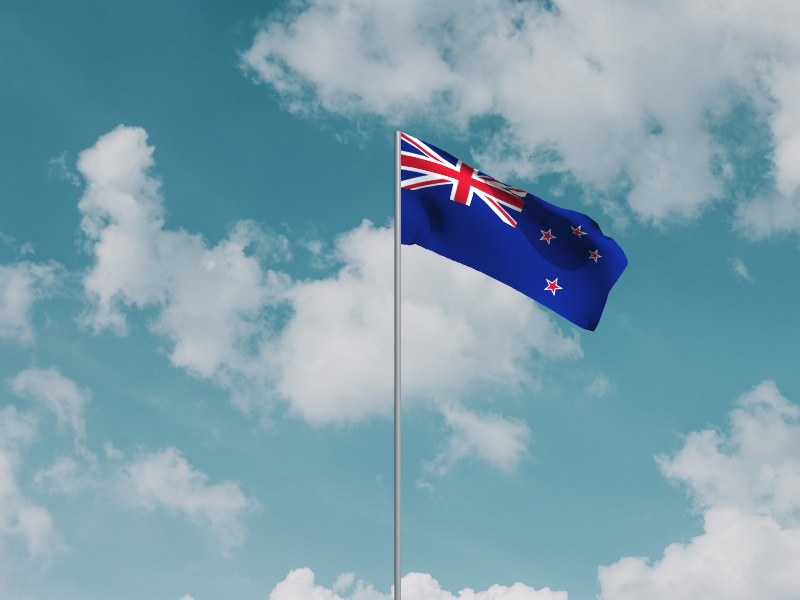nz: (402, 133, 629, 333)
